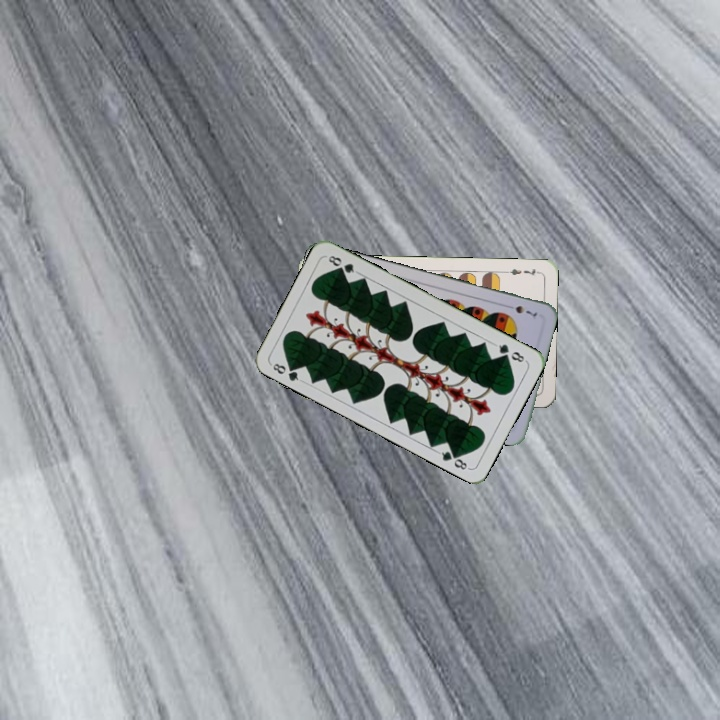E7: (501, 265, 542, 278)
G8: (267, 359, 305, 385), (491, 340, 529, 365)
S7: (502, 301, 540, 320)
